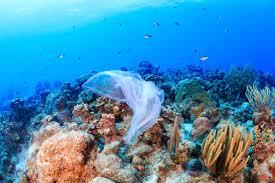Trash: (77, 65, 166, 136)
